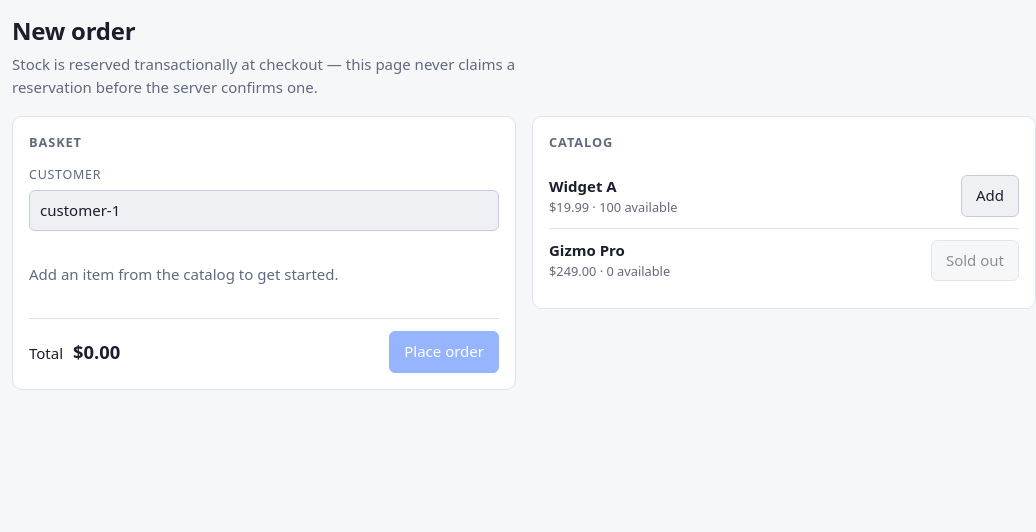
Test: CreateOrderPage › shows the backend message when stock ran out
Expected: the text "Widget A" is shown, [549, 176, 617, 196]
Click the button "Add": (990, 196) [961, 175, 1019, 217]
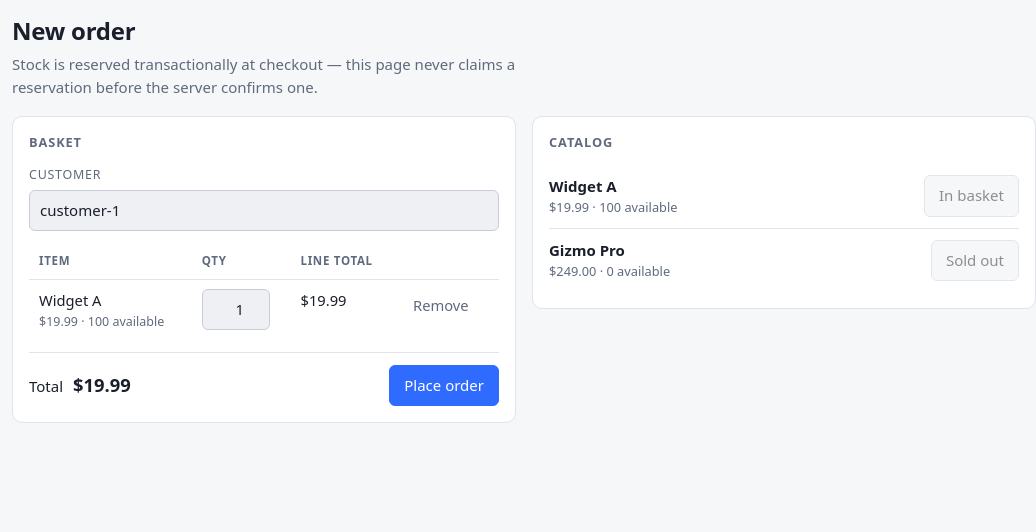
Click the button "Place order": (444, 386) [389, 365, 499, 406]
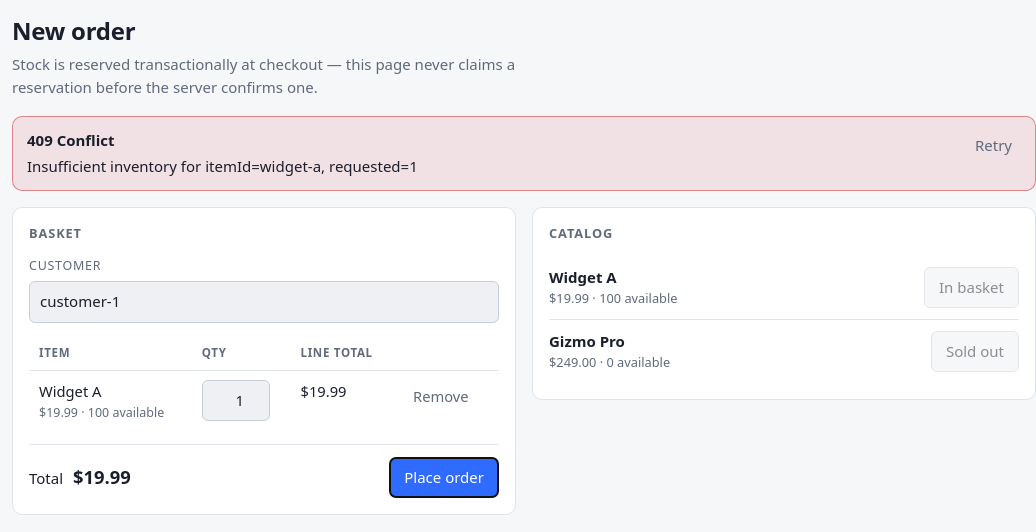
Expected: the message shows "Insufficient inventory", [27, 156, 418, 176]
